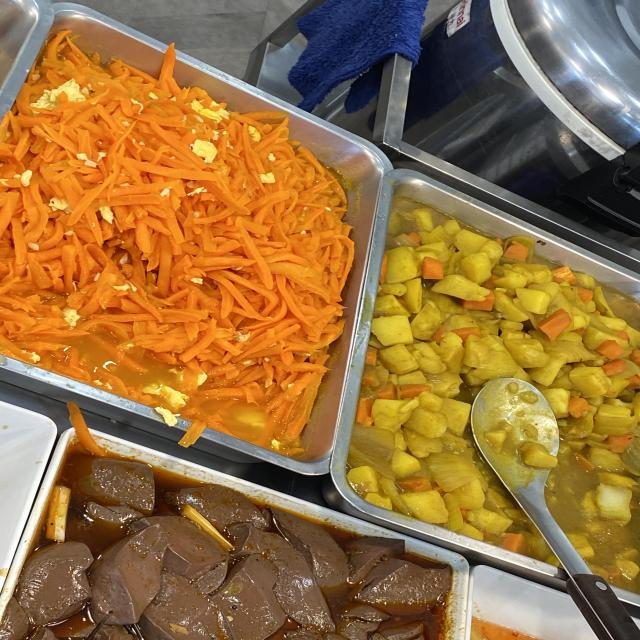Scrambled eggs with carrots: (46, 156, 302, 354)
